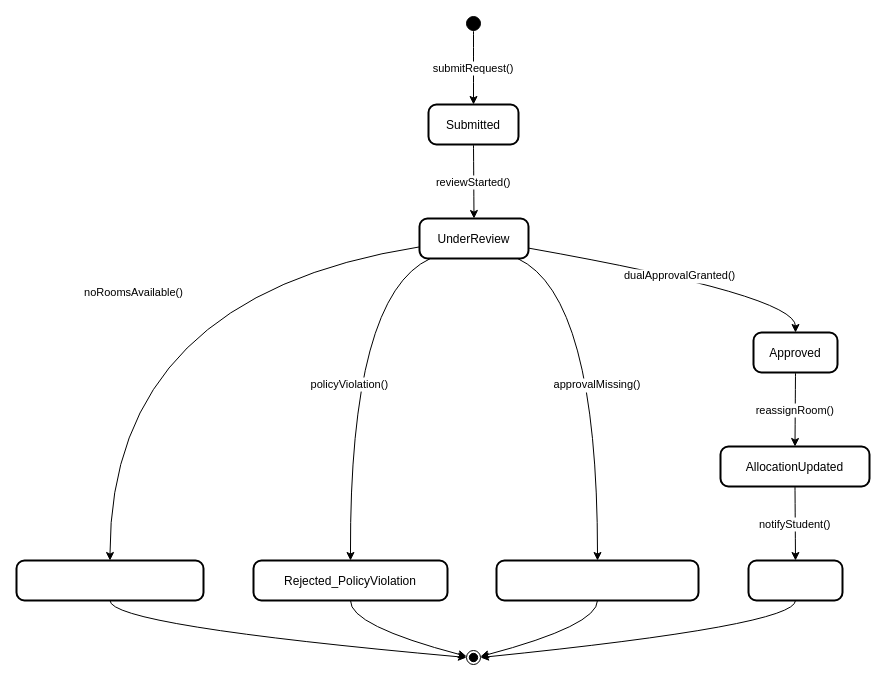
Image size: 886x681. Some labels were removed from this diagram. The centre of each missing label's shape, as x and y in pixels:
Completed: (795,580)
Rejected_ApprovalMissing: (597,580)
Rejected_NoAvailability: (109,580)
